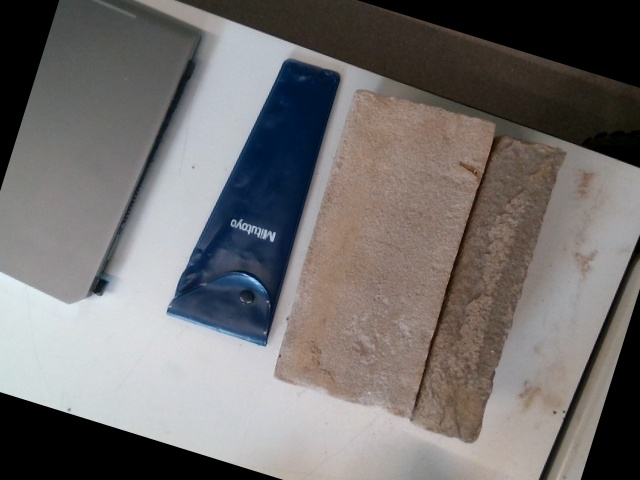brick: (277, 92, 490, 409)
